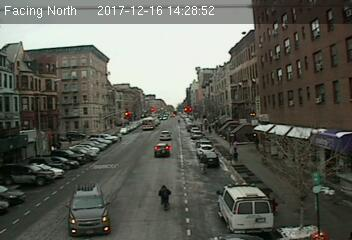bicycle: (159, 185, 173, 211)
car: (68, 184, 112, 232), (202, 150, 220, 166), (153, 144, 169, 157), (160, 130, 171, 141)
police: (215, 182, 274, 234)
